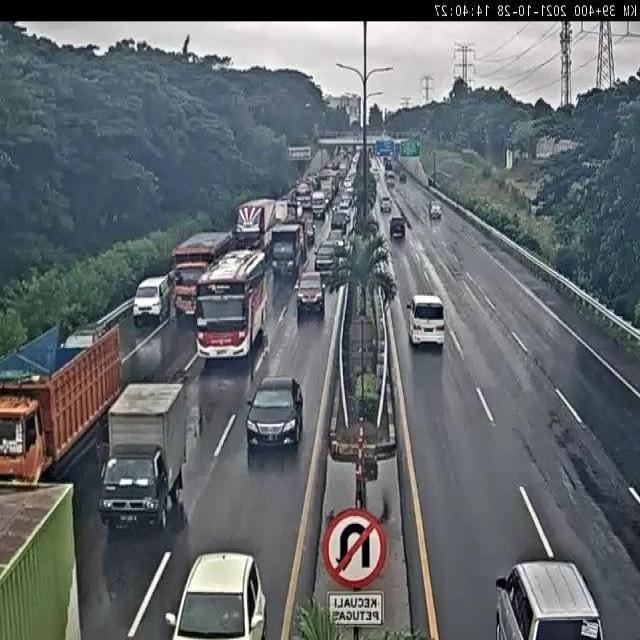Bus: (195, 248, 268, 359)
Car: (161, 551, 269, 640), (489, 563, 605, 640), (245, 379, 306, 455), (294, 271, 326, 324), (313, 244, 340, 280), (388, 216, 407, 242), (324, 230, 349, 246), (331, 212, 352, 228), (428, 202, 442, 223), (380, 195, 393, 215), (397, 171, 408, 184)
Truck: (0, 323, 119, 484), (100, 380, 188, 540), (0, 478, 84, 640), (168, 230, 238, 325), (234, 200, 277, 240), (271, 225, 302, 278), (310, 191, 330, 225)
Van: (404, 296, 448, 348), (132, 277, 173, 325)
